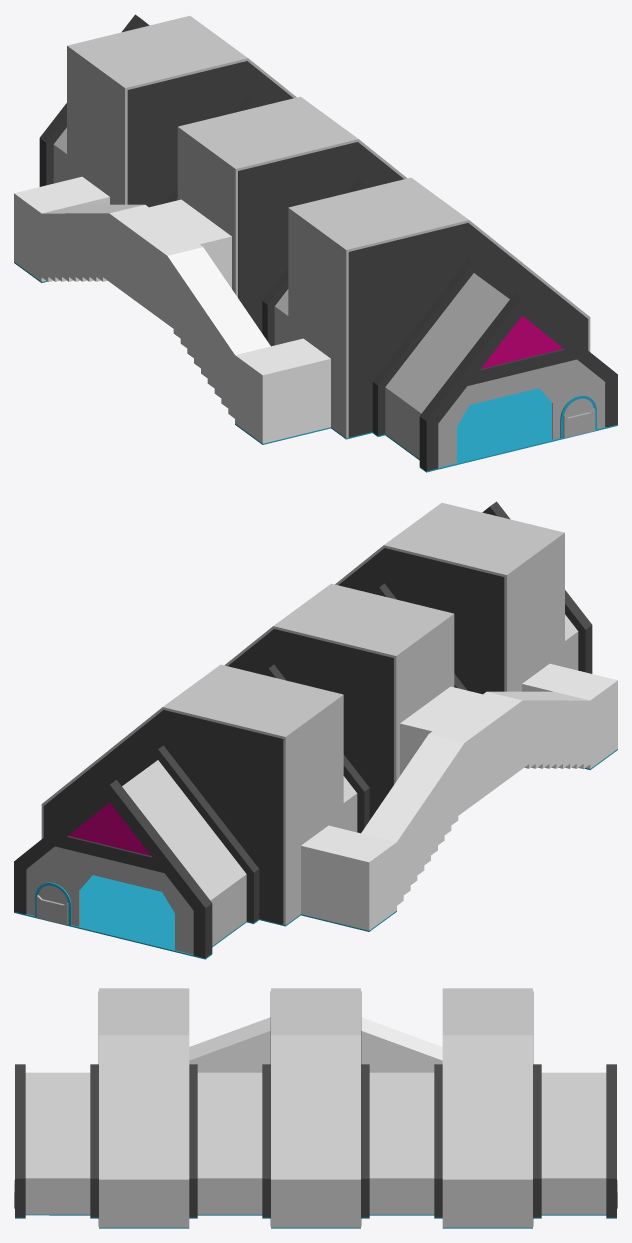
File: TheLastHand_CorrectedL1E1.fbx
The picture shows the model from 3 angles, top to bottom: view 1: azimuth 30°, elevation 25°; view 2: azimuth 150°, elevation 25°; view 3: azimuth 270°, elevation 25°; orthographic projection. The views are drawn at different scales.
Parts seen in each view (by area): view 1: Walls, Columns, Inner Wall, Belt, Metal, Glass; view 2: Walls, Columns, Inner Wall, Belt, Metal, Glass; view 3: Walls, Columns, Inner Wall, Metal.
Boxes of the visible parts, x1,y1,x2,y2 form: Walls: [53, 16, 590, 458]; Columns: [39, 14, 617, 471]; Inner Wall: [14, 176, 330, 443]; Belt: [438, 359, 605, 467]; Metal: [14, 262, 617, 472]; Glass: [481, 315, 563, 368]; Walls: [41, 503, 578, 945]; Columns: [14, 501, 592, 958]; Inner Wall: [301, 663, 617, 930]; Belt: [26, 846, 193, 954]; Metal: [14, 749, 617, 959]; Glass: [68, 802, 150, 855]; Walls: [25, 988, 606, 1227]; Columns: [15, 991, 616, 1226]; Inner Wall: [189, 1017, 442, 1072]; Metal: [15, 1214, 616, 1228].
Size of the model in its own units: 13.05 by 7.56 by 28.1.
